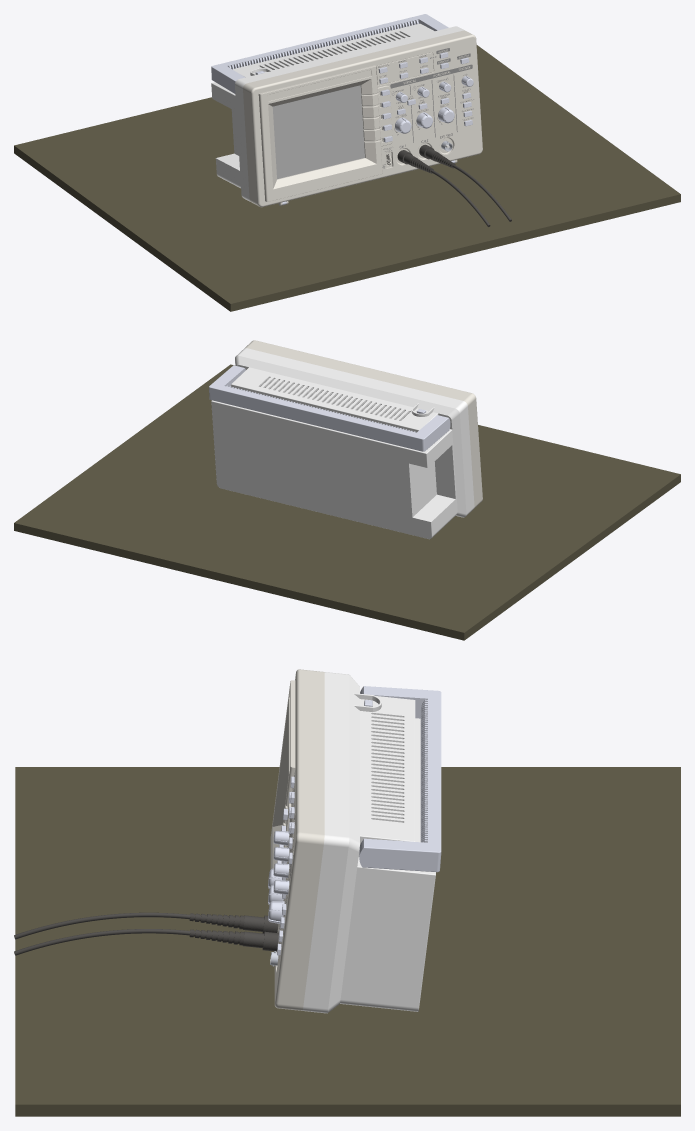
The model's file is osciloscopio_v4.glb.
3 renders of one model, top to bottom at view 1: azimuth 30°, elevation 25°; view 2: azimuth 150°, elevation 25°; view 3: azimuth 270°, elevation 25°, orthographic. The views are drawn at different scales.
Visible parts, largest first — view 1: table, frontPanel, screen, backPane, handle, conector2, conector1; view 2: table, backPane, handle, frontPanel; view 3: table, backPane, frontPanel, handle, conector2, conector1.
Part boxes in pixels (x1,y1,x2,y2): table: [14, 45, 680, 311]; frontPanel: [243, 30, 482, 207]; screen: [272, 85, 364, 179]; backPane: [211, 23, 464, 201]; handle: [211, 14, 448, 93]; conector2: [419, 144, 511, 221]; conector1: [397, 150, 490, 226]; table: [14, 364, 680, 640]; backPane: [211, 348, 474, 539]; handle: [209, 365, 450, 451]; frontPanel: [245, 340, 482, 507]; table: [15, 767, 680, 1116]; backPane: [302, 672, 435, 1013]; frontPanel: [270, 669, 324, 1010]; handle: [359, 686, 441, 872]; conector2: [14, 929, 278, 955]; conector1: [14, 912, 278, 939].
Size of the model in its own units: 0.6 by 0.163 by 0.5009.
